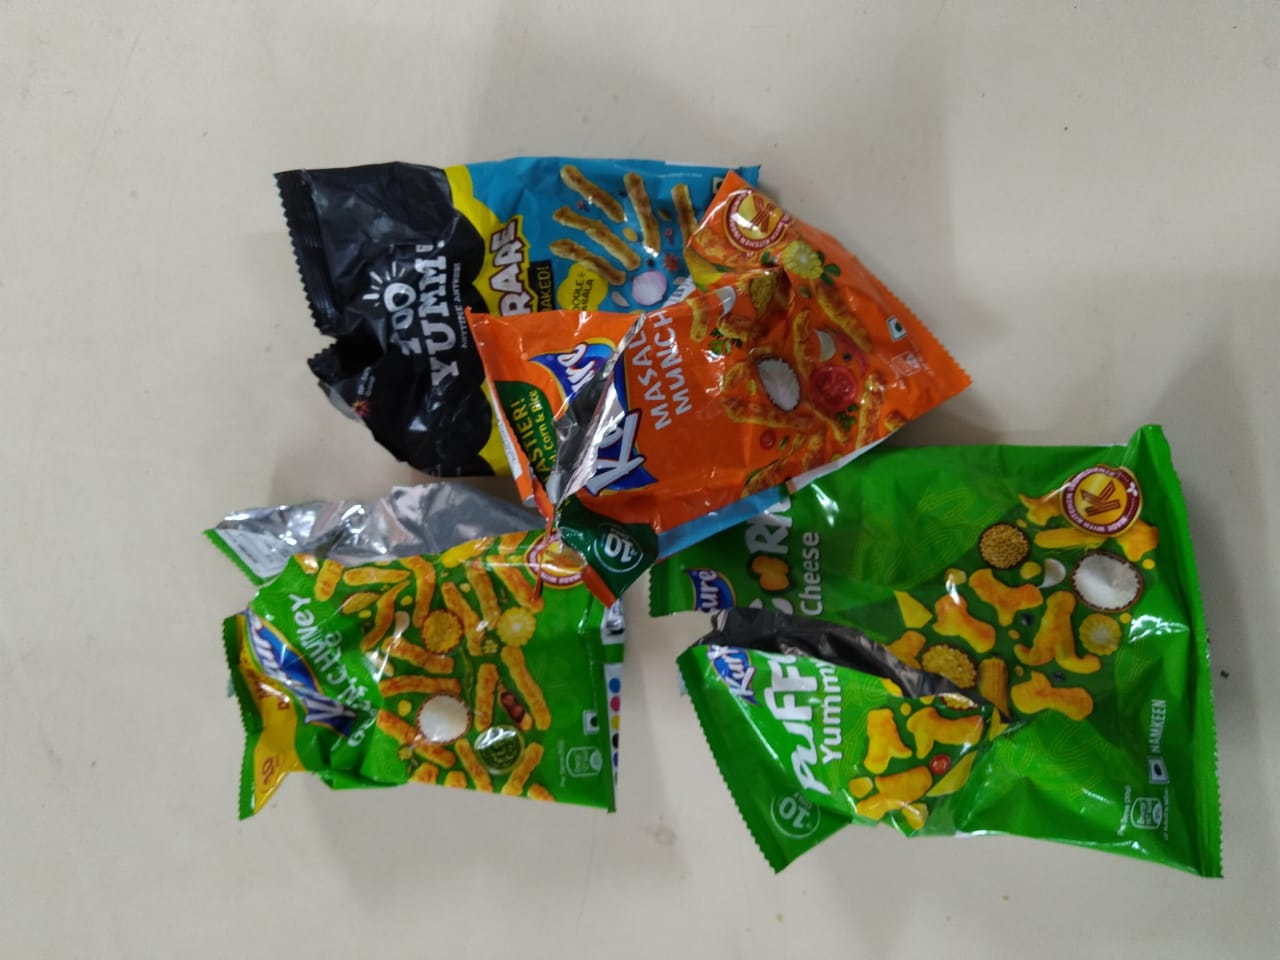kurkure: (661, 537, 779, 707), (551, 329, 639, 531), (251, 521, 335, 691), (245, 589, 339, 731), (565, 377, 643, 483), (691, 575, 755, 665)
tooyumm: (373, 217, 465, 405), (385, 247, 497, 397), (359, 247, 473, 367)
wrapper: (651, 401, 1243, 879), (495, 197, 919, 581), (293, 153, 781, 479), (235, 485, 643, 811)
